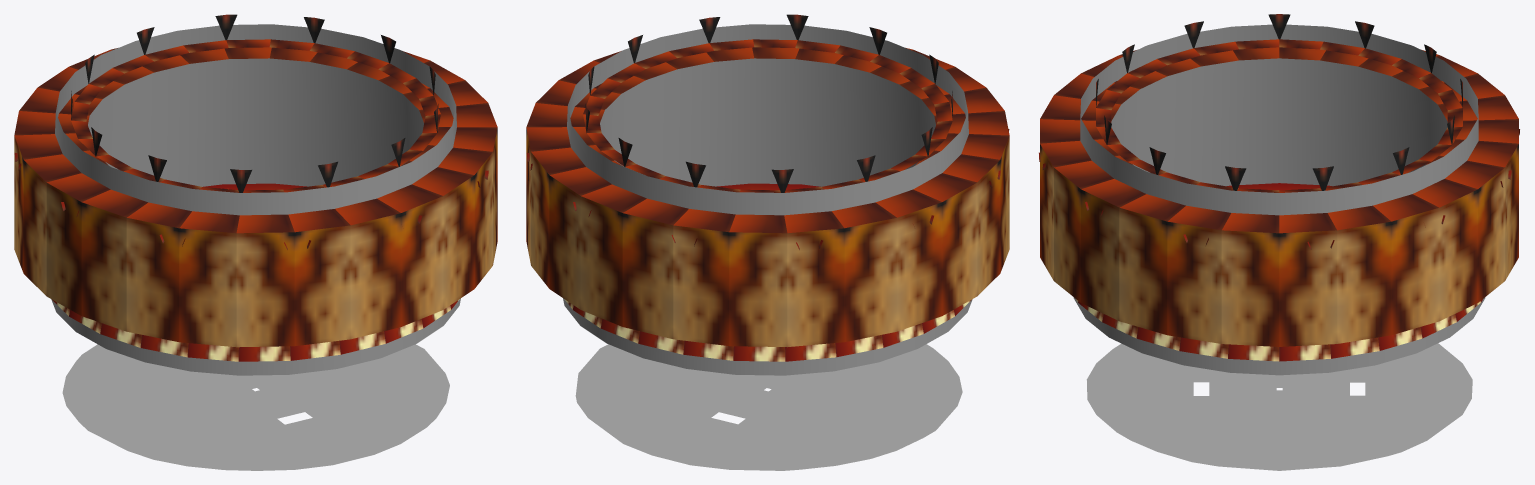
File: P_PVP.fbx
3 renders of one model, left to right at view 1: azimuth 30°, elevation 25°; view 2: azimuth 150°, elevation 25°; view 3: azimuth 270°, elevation 25°, orthographic.
Parts seen in each view (by area): view 1: pCylinder3, box4, ditu; view 2: pCylinder3, box4, ditu; view 3: pCylinder3, box4, ditu.
Boxes of the visible parts, left/top/right/bottom form: pCylinder3: left=14, top=14, right=497, bottom=361; box4: left=51, top=24, right=460, bottom=375; ditu: left=62, top=344, right=449, bottom=470; pCylinder3: left=526, top=14, right=1009, bottom=361; box4: left=563, top=24, right=972, bottom=375; ditu: left=575, top=344, right=962, bottom=470; pCylinder3: left=1040, top=14, right=1518, bottom=361; box4: left=1073, top=24, right=1485, bottom=375; ditu: left=1086, top=343, right=1472, bottom=470.
Size of the model in its own units: 49.81 by 33.83 by 49.77.
